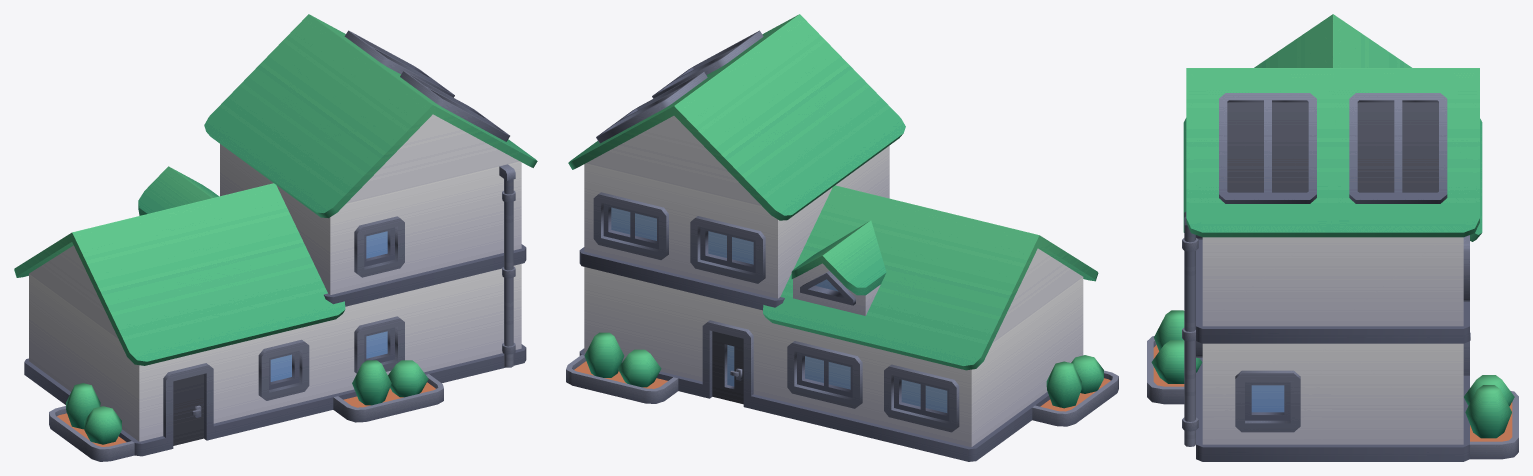
File: building-type-b.glb
3 views of the same model, side by side, from view 1: azimuth 30°, elevation 25°; view 2: azimuth 150°, elevation 25°; view 3: azimuth 270°, elevation 25° (orthographic). The views are drawn at different scales.
Parts seen in each view (by area): view 1: building-type-b; view 2: building-type-b; view 3: building-type-b.
Boxes of the visible parts, x1=… form: building-type-b: x1=14, y1=14, x2=537, y2=461; building-type-b: x1=566, y1=14, x2=1118, y2=461; building-type-b: x1=1147, y1=14, x2=1518, y2=461.
Size of the model in its own units: 1.83 by 1.14 by 1.14.
1 material, 1 textured.
